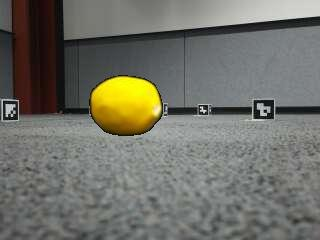lemon: (92, 76, 163, 135)
